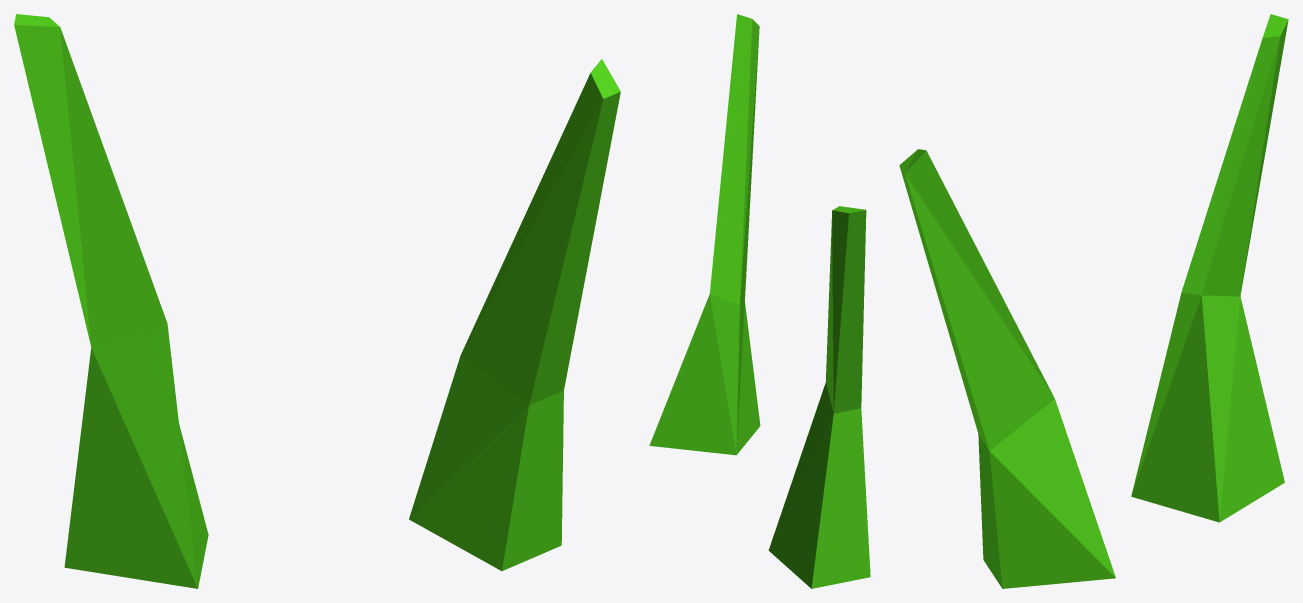
The model's file is Grass3.fbx.
3 renders of one model, left to right at view 1: azimuth 30°, elevation 25°; view 2: azimuth 150°, elevation 25°; view 3: azimuth 270°, elevation 25°, orthographic. The views are drawn at different scales.
Visible parts, largest first — view 1: Plane.015, Plane.012; view 2: Plane.015, Plane.012; view 3: Plane.015, Plane.012.
Part boxes in pixels (bbox=[...]): Plane.015: bbox=[14, 14, 208, 588]; Plane.012: bbox=[409, 59, 620, 570]; Plane.015: bbox=[768, 206, 870, 588]; Plane.012: bbox=[649, 14, 760, 455]; Plane.015: bbox=[1131, 14, 1288, 522]; Plane.012: bbox=[899, 149, 1115, 588].
Size of the model in its own units: 51.25 by 69.46 by 53.12.
